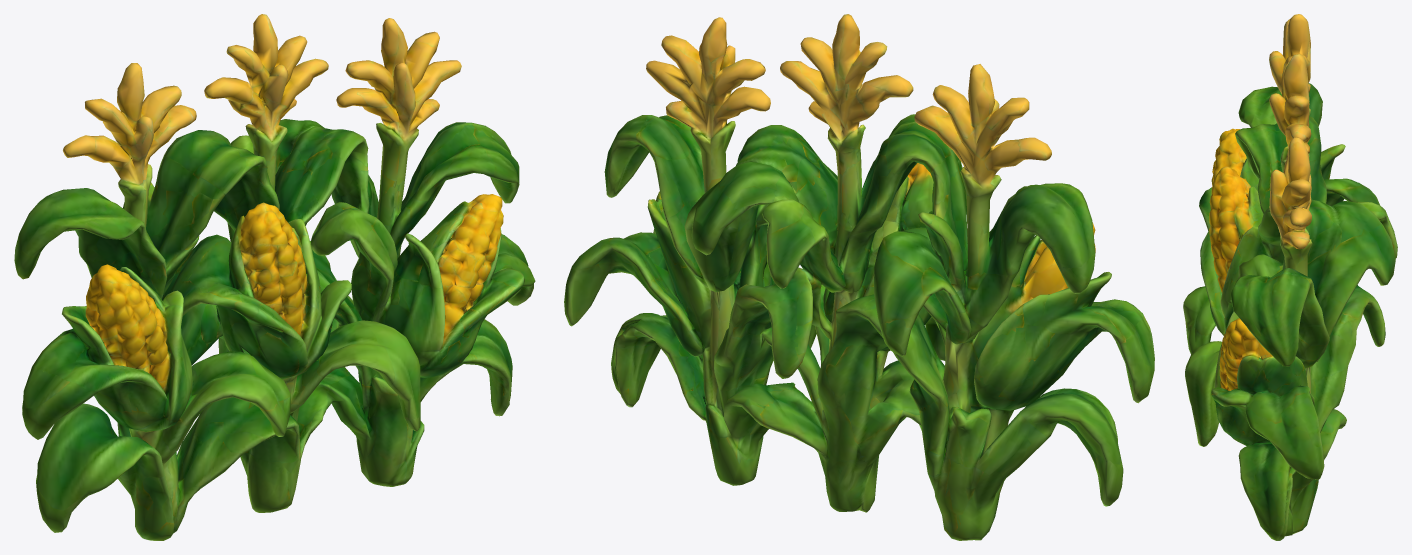
File: corn-mature.glb
The picture shows the model from 3 angles, left to right: view 1: azimuth 30°, elevation 25°; view 2: azimuth 150°, elevation 25°; view 3: azimuth 270°, elevation 25°; orthographic projection. The views are drawn at different scales.
Size of the model in its own units: 1.9 by 1.66 by 0.7534.
Materials: 1 (1 with a texture image).
